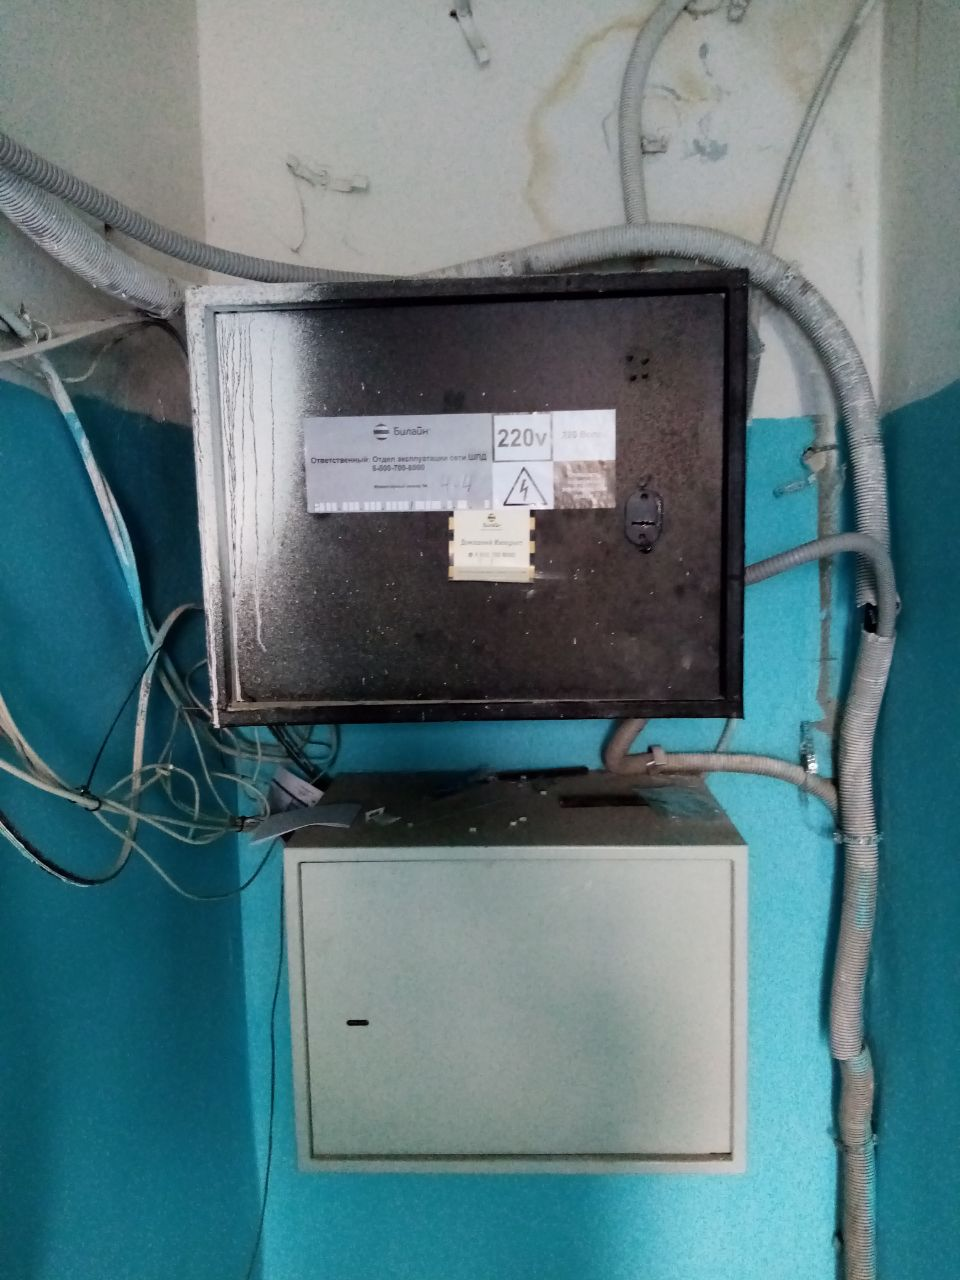shta-9m: (178, 258, 761, 737)
